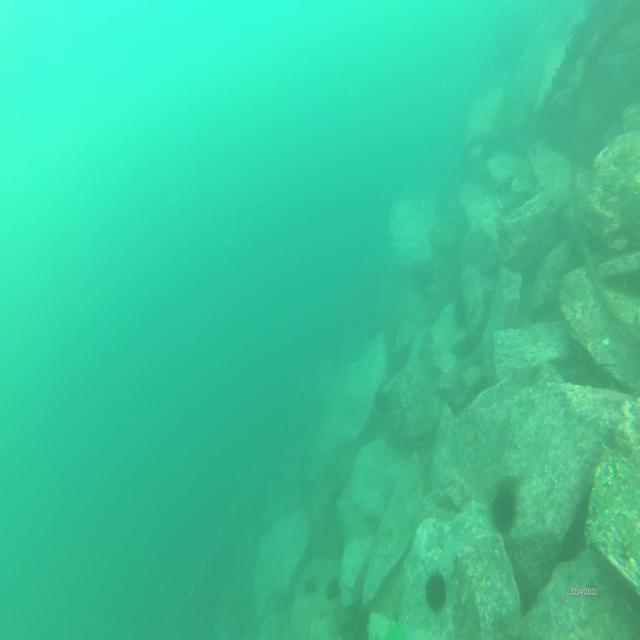echinus: (486, 470, 520, 534), (422, 568, 448, 616), (452, 289, 472, 328), (372, 384, 392, 416), (324, 571, 342, 606), (300, 572, 317, 597)
